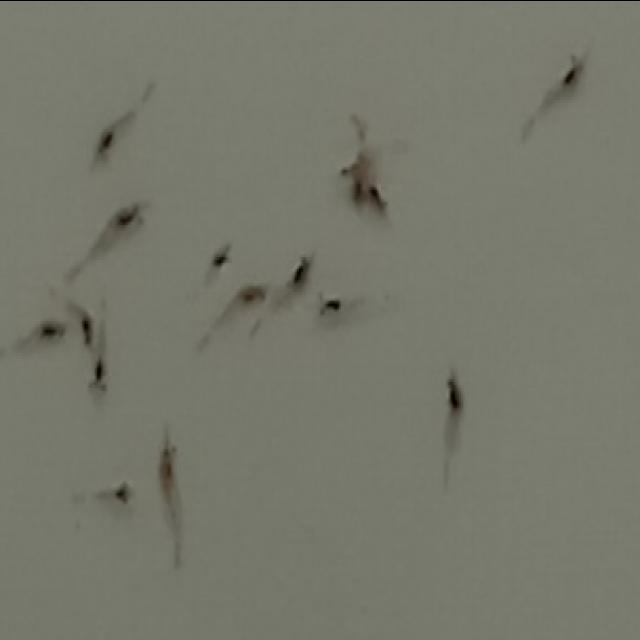shrimp-seed: (150, 428, 180, 498), (280, 247, 314, 296), (90, 120, 124, 168), (439, 368, 471, 418), (110, 195, 146, 239), (316, 280, 348, 329), (33, 310, 67, 356), (556, 48, 588, 96), (231, 274, 267, 314), (200, 237, 232, 280), (361, 180, 391, 223), (84, 353, 112, 397), (108, 472, 138, 510), (344, 174, 368, 214), (74, 306, 95, 350), (333, 153, 358, 185)
